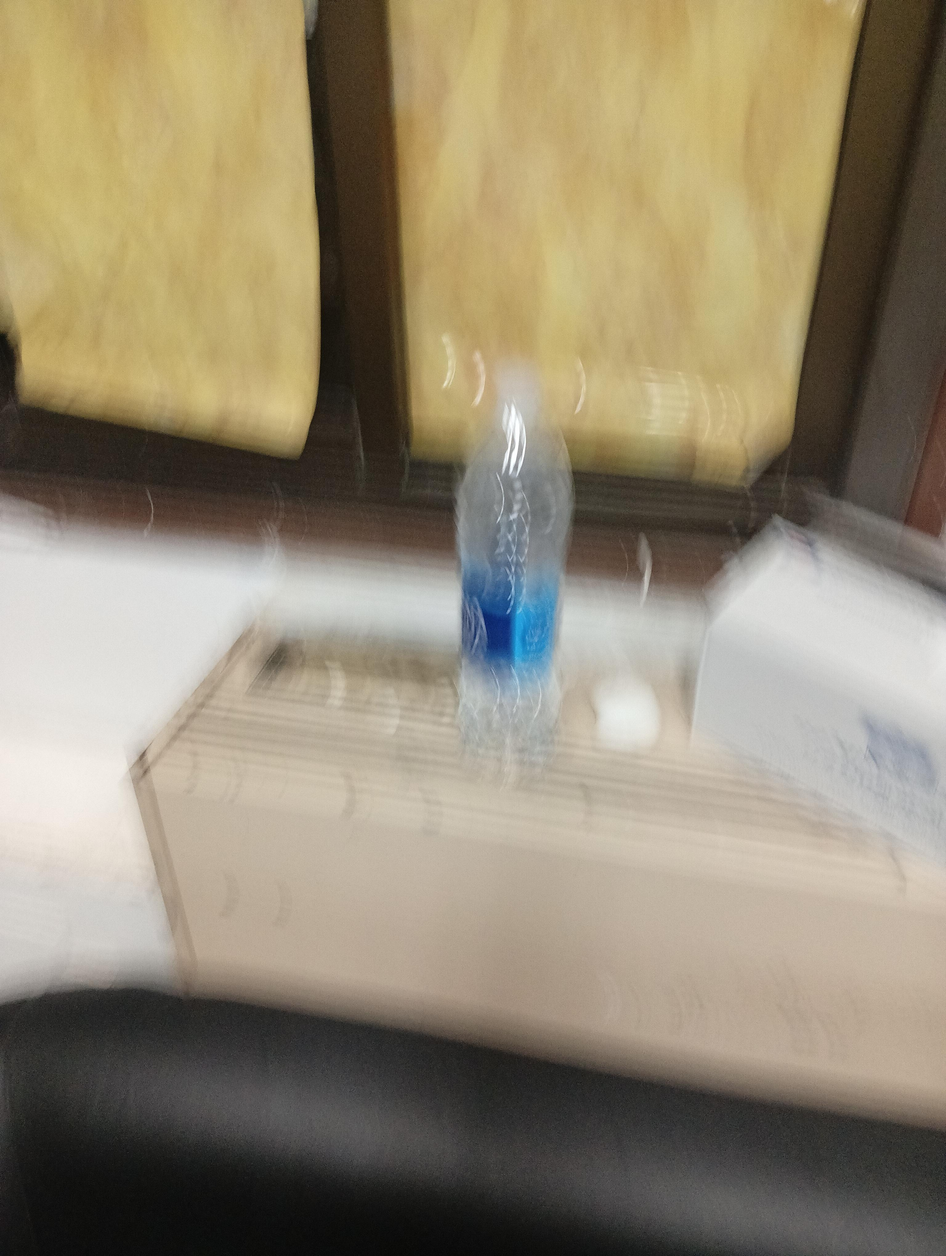Bottle: (457, 363, 573, 767)
